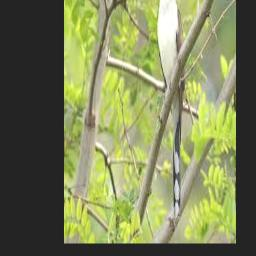Cuckoo: (156, 0, 185, 218)
